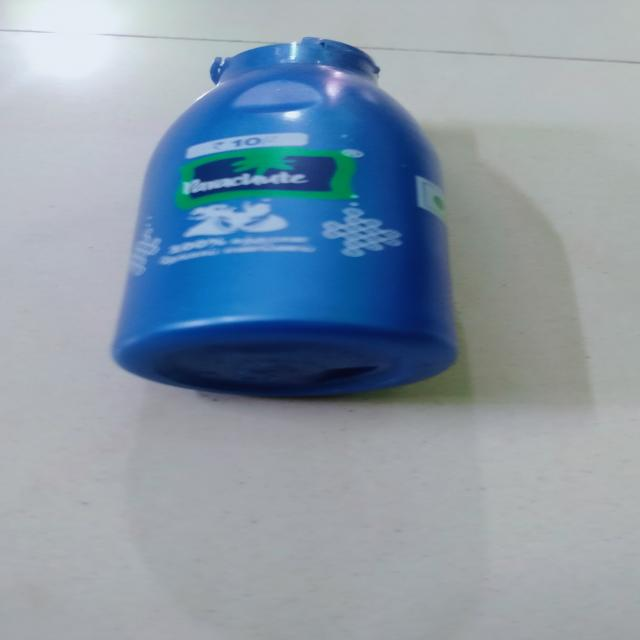oil: (104, 37, 455, 403)
